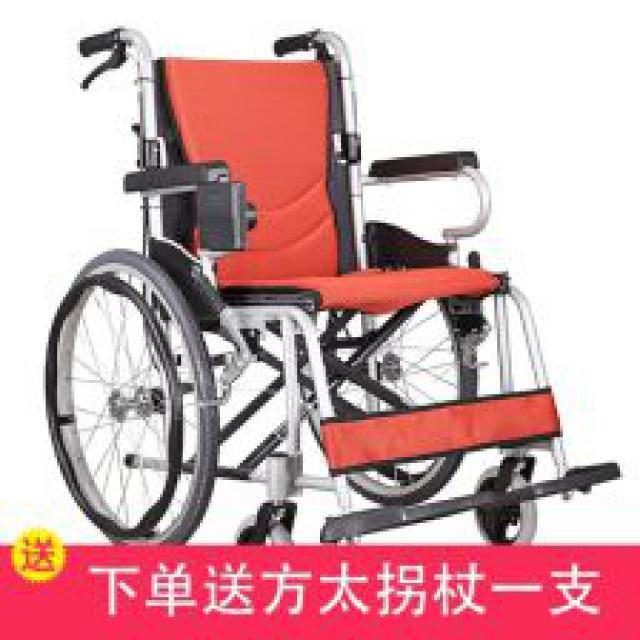wheelchairs: (44, 28, 621, 545)
